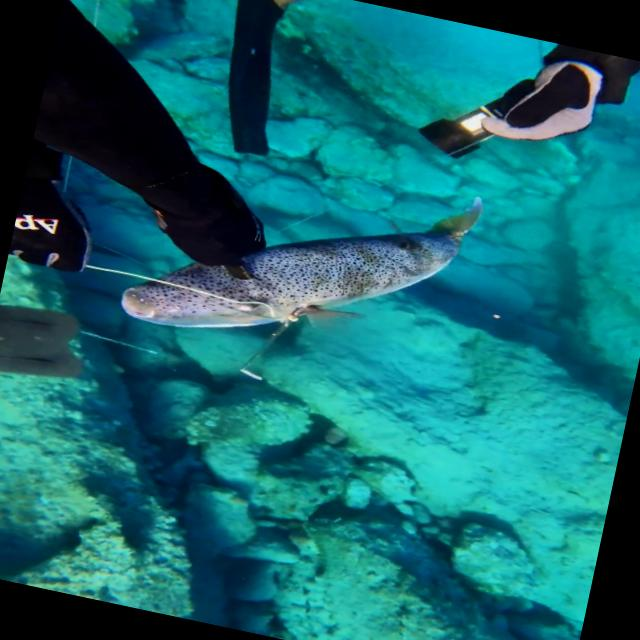Balon Baligi: (117, 127, 490, 386)
